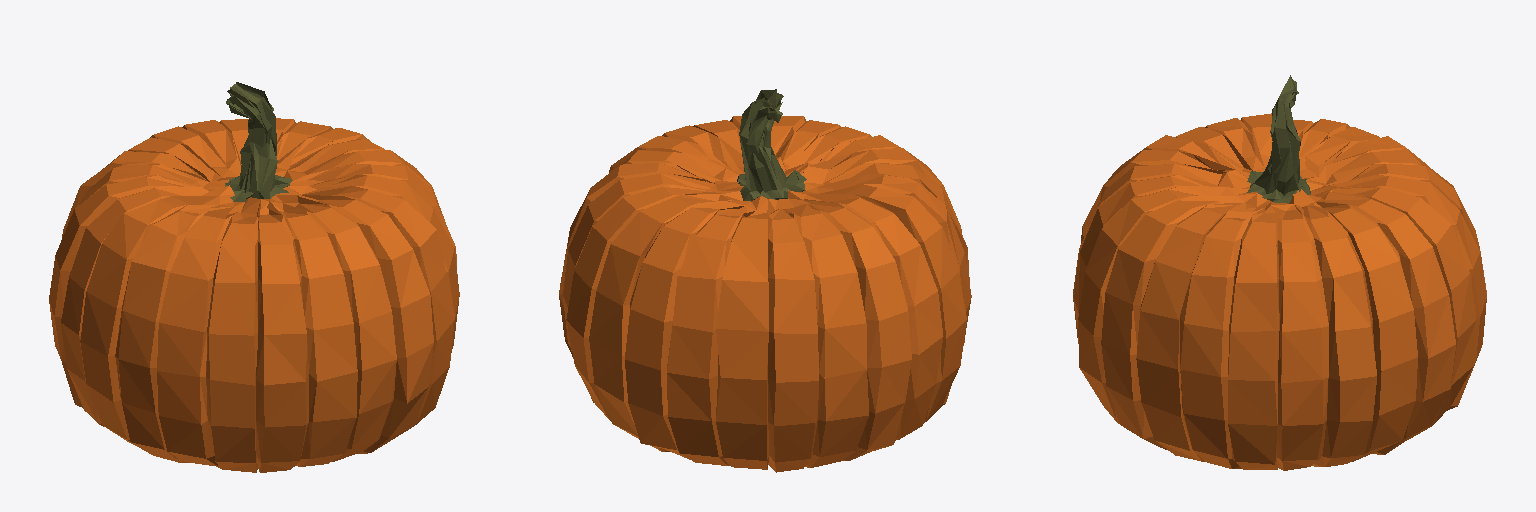
The model's file is m_bush.obj.
The picture shows the model from 3 angles: view 1: azimuth 30°, elevation 25°; view 2: azimuth 150°, elevation 25°; view 3: azimuth 270°, elevation 25°; orthographic projection.
Parts seen in each view (by area): view 1: Pumpkin.obj; view 2: Pumpkin.obj; view 3: Pumpkin.obj.
Boxes of the visible parts, box(x1,y1,x2,y2) form: Pumpkin.obj: box(49, 82, 459, 472); Pumpkin.obj: box(559, 89, 971, 472); Pumpkin.obj: box(1073, 75, 1486, 470).
Size of the model in its own units: 1.26 by 1.18 by 1.28.